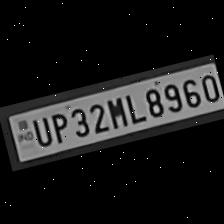0: (195, 68, 222, 102)
2: (83, 97, 108, 133)
3: (62, 103, 90, 139)
6: (176, 74, 200, 108)
8: (138, 83, 164, 119)
9: (158, 78, 182, 112)
L: (120, 87, 144, 123)
M: (102, 92, 128, 129)
P: (43, 108, 70, 144)
U: (26, 112, 52, 146)
